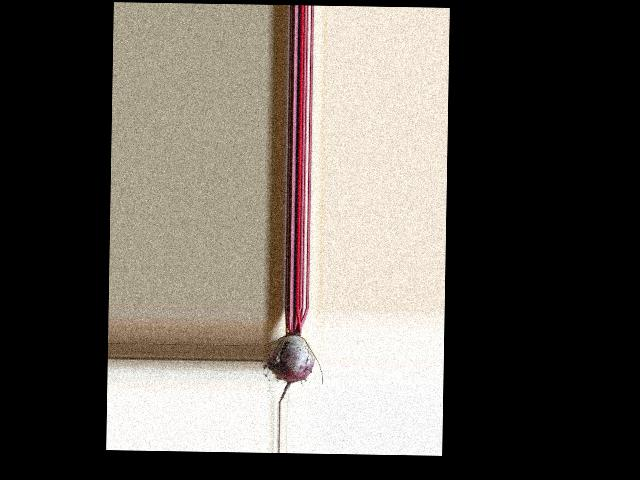beet: (267, 308, 324, 404)
